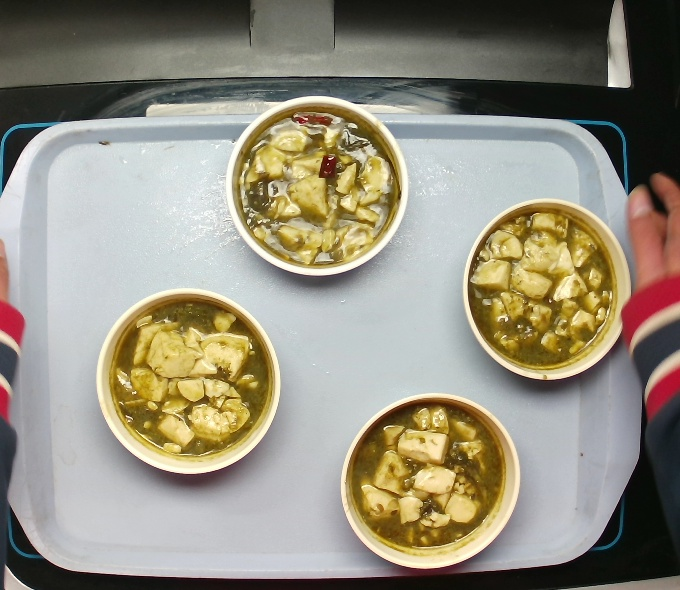wcq-SuanCaiDouFu: (231, 102, 404, 269), (107, 291, 274, 458), (341, 396, 508, 552), (466, 202, 619, 371)
